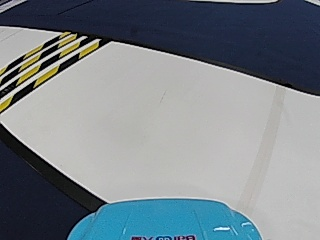bump: (5, 34, 105, 104)
